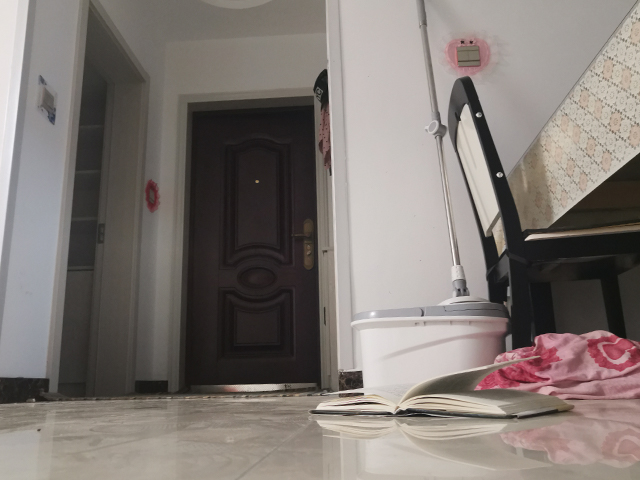book: (309, 354, 576, 422)
carpet: (36, 386, 331, 401)
stool: (445, 74, 640, 351)
table: (504, 1, 640, 355)
